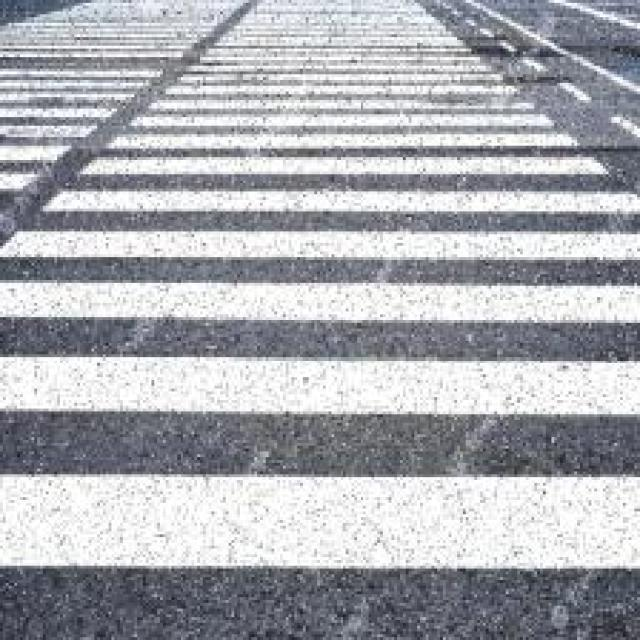crosswalk: (1, 9, 640, 570)
